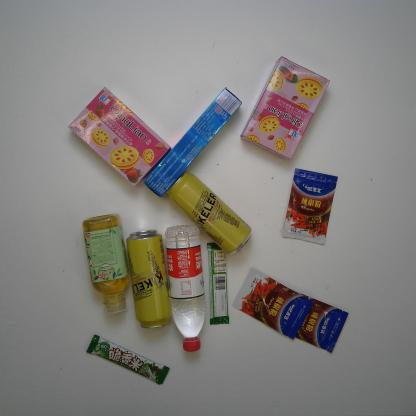Alcohol: (165, 170, 260, 255), (126, 226, 172, 332)
Chocolate: (86, 334, 170, 386), (205, 240, 231, 328)
Dessert: (65, 86, 172, 189), (240, 55, 330, 162)
Drink: (164, 222, 208, 354), (81, 212, 132, 317)
Personal Hygiene: (142, 86, 243, 201)
Seasoner: (230, 267, 315, 343), (276, 288, 350, 358), (280, 166, 339, 246)
